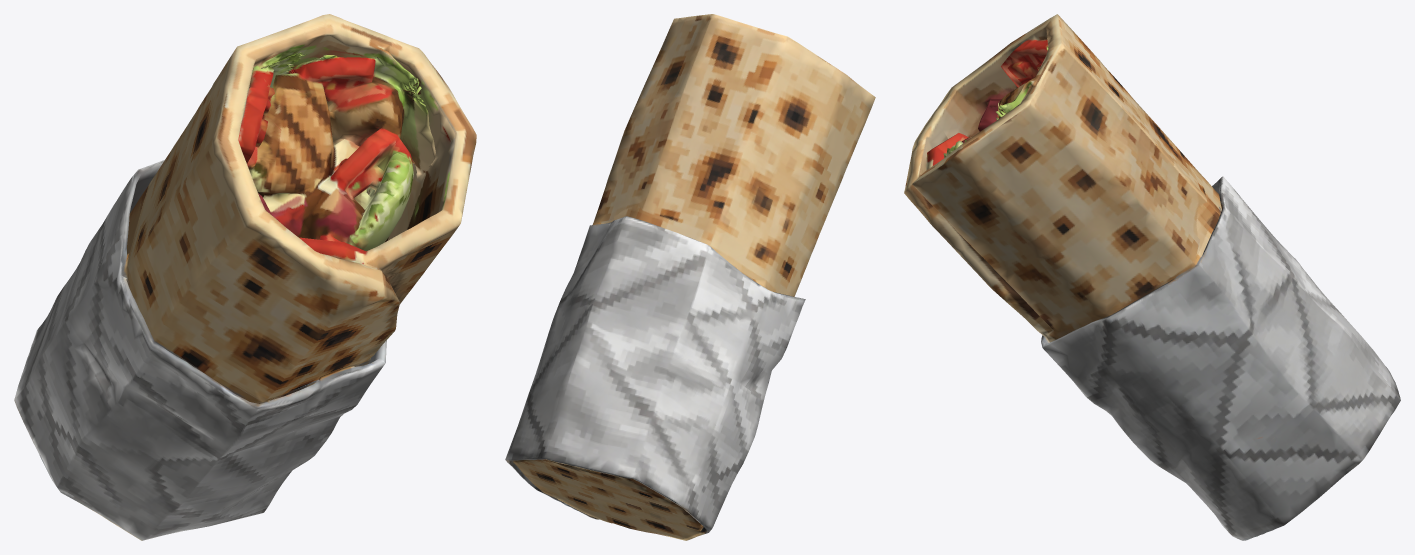
Rendered from shawerma.fbx.
3 views of the same model, side by side, from view 1: azimuth 30°, elevation 25°; view 2: azimuth 150°, elevation 25°; view 3: azimuth 270°, elevation 25° (orthographic). The views are drawn at different scales.
Visible parts, largest first — view 1: aiprintgen_tmpgww16xn9.obj; view 2: aiprintgen_tmpgww16xn9.obj; view 3: aiprintgen_tmpgww16xn9.obj.
Part boxes in pixels (x1,y1,x2,y2): aiprintgen_tmpgww16xn9.obj: [14, 14, 476, 540]; aiprintgen_tmpgww16xn9.obj: [505, 14, 875, 540]; aiprintgen_tmpgww16xn9.obj: [904, 14, 1400, 540].
Size of the model in its own units: 10.65 by 24.3 by 22.82.
1 material, 1 textured.
